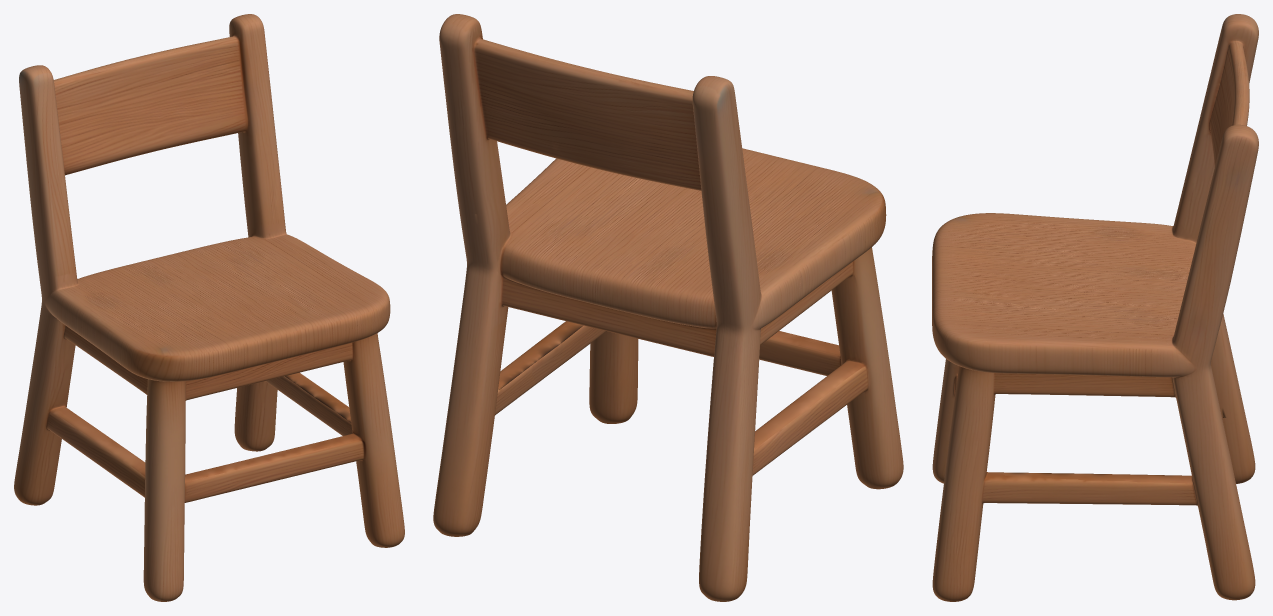
The model's file is chair_opt.glb.
The picture shows the model from 3 angles, left to right: view 1: azimuth 30°, elevation 25°; view 2: azimuth 150°, elevation 25°; view 3: azimuth 270°, elevation 25°; orthographic projection. The views are drawn at different scales.
Parts seen in each view (by area): view 1: material; view 2: material; view 3: material.
Part boxes in pixels (x1,y1,x2,y2): material: (14,14,404,601); material: (433,14,903,601); material: (932,14,1258,601).
Bounding box in the file's own units: 0.5703 × 0.9292 × 0.59.
1 material, 1 textured.
